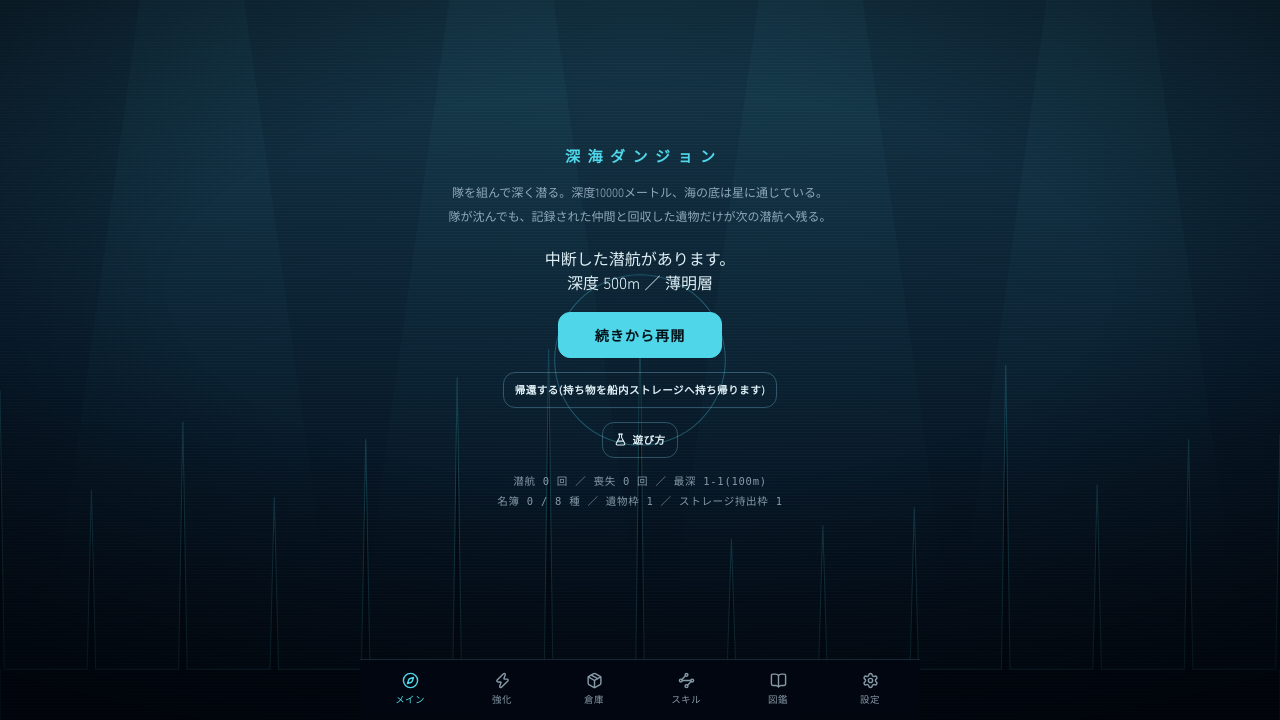
Test: リワード広告の枠ごとの日次上限 › 復活で6回使い切っても、2倍物資の残り回数は減らない
Step 1. Click the button "続きから再開" → [640, 335], box left=558, top=312, right=722, bottom=358
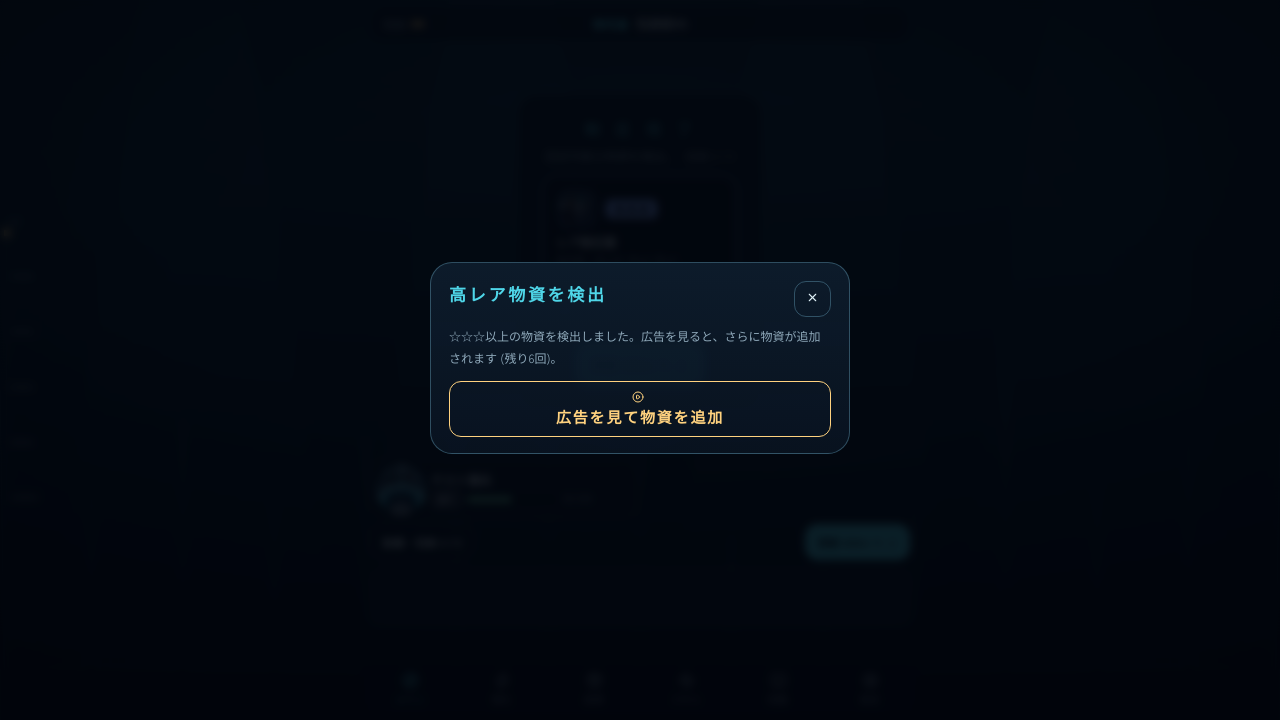
Now the text "残り6回" is shown, box left=449, top=325, right=831, bottom=369
